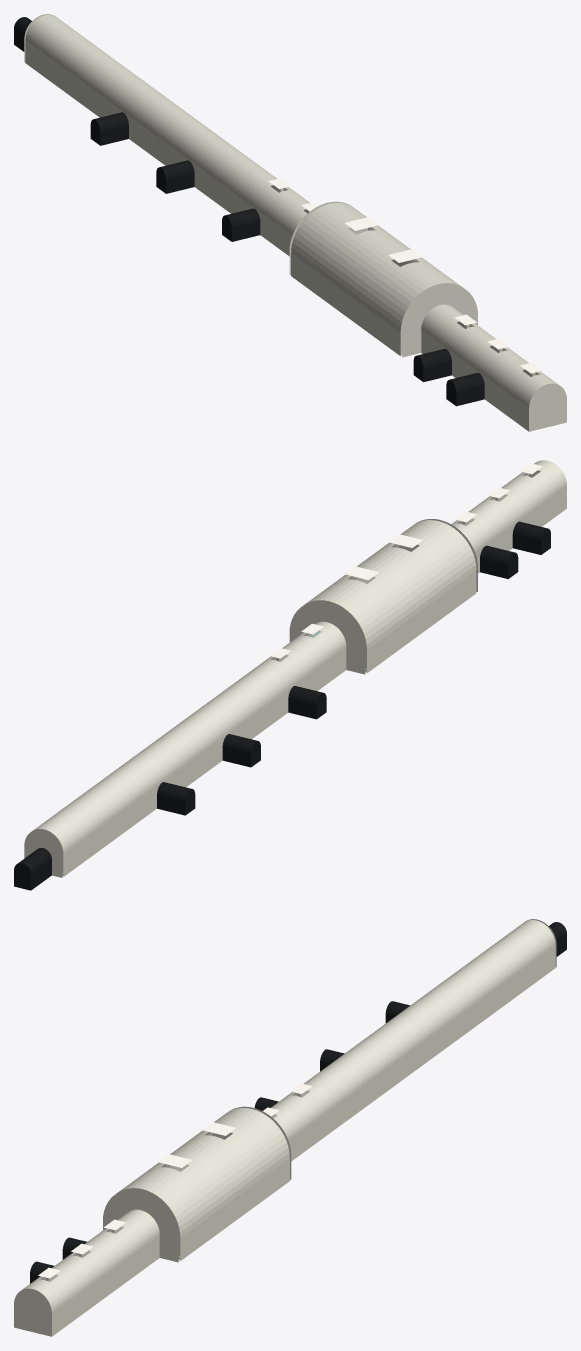
Rendered from poolrooms.glb.
3 views of the same model, one above another, from view 1: azimuth 30°, elevation 25°; view 2: azimuth 150°, elevation 25°; view 3: azimuth 330°, elevation 25° (orthographic).
Visible parts, largest first — view 1: PassageB, Hall, PassageA, HallEntry, EntranceWall, SideStub4, SideStub0, SideStub2, SideStub3, SideStub1; view 2: PassageB, Hall, PassageA, HallExit, FarWall, SideStub0, SideStub3, SideStub1, SideStub2, SideStub4, FarDoorway; view 3: PassageB, Hall, PassageA, HallEntry, EntranceWall.
Boxes of the visible parts, x1,y1,x2,y2 form: PassageB: [25, 15, 309, 256]; Hall: [291, 203, 461, 356]; PassageA: [421, 304, 559, 431]; HallEntry: [400, 283, 477, 357]; EntranceWall: [529, 383, 566, 431]; SideStub4: [94, 112, 128, 145]; SideStub0: [450, 373, 484, 406]; SideStub2: [226, 208, 260, 241]; SideStub3: [160, 160, 194, 193]; SideStub1: [417, 348, 451, 382]; PassageB: [33, 621, 346, 876]; Hall: [306, 520, 476, 673]; PassageA: [451, 460, 566, 573]; HallExit: [289, 600, 366, 674]; FarWall: [24, 829, 63, 877]; SideStub0: [512, 521, 547, 554]; SideStub3: [222, 734, 257, 767]; SideStub1: [480, 545, 514, 578]; SideStub2: [288, 686, 323, 719]; SideStub4: [157, 782, 191, 815]; FarDoorway: [17, 848, 51, 890]; PassageB: [271, 920, 555, 1161]; Hall: [119, 1108, 289, 1261]; PassageA: [21, 1209, 159, 1336]; HallEntry: [103, 1188, 180, 1262]; EntranceWall: [14, 1288, 51, 1336].
Bounding box in the file's own units: 9 × 6.75 × 96.
Materials: 5 (1 with a texture image).
